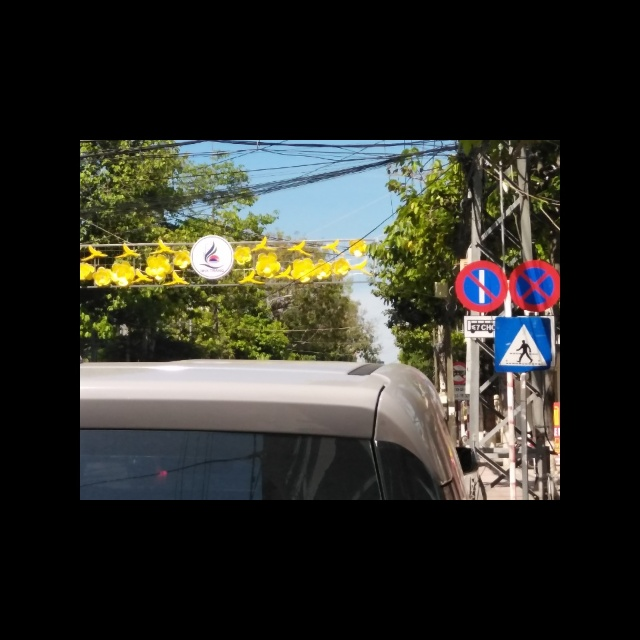Cấm dừng xe và đỗ xe: (510, 259, 561, 313)
Cấm đỗ xe ngày lẻ: (453, 261, 507, 311)
Đường dành cho người đi bộ: (494, 316, 552, 372)
